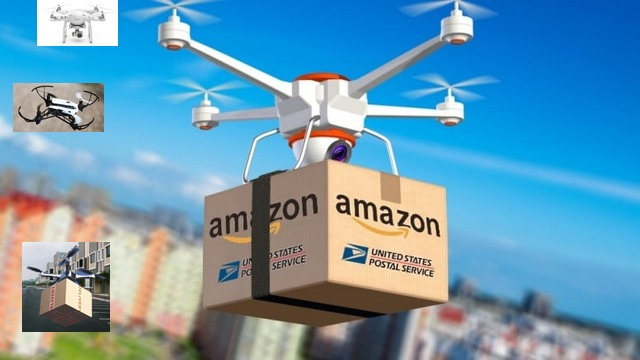drone: (120, 0, 504, 330), (22, 242, 110, 332), (13, 83, 104, 132), (37, 0, 118, 46)
